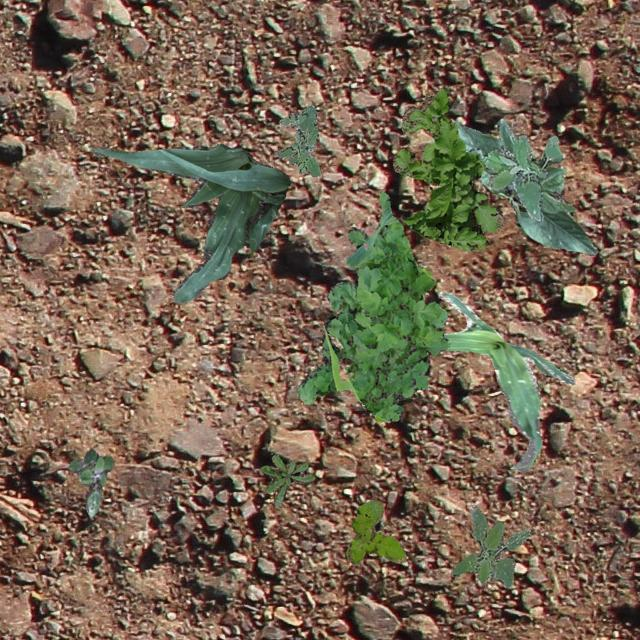crop: (87, 142, 289, 302), (438, 290, 574, 470), (453, 120, 597, 253)
weed: (296, 190, 448, 420), (392, 87, 504, 250), (468, 117, 562, 220), (450, 504, 530, 588), (346, 499, 404, 564), (274, 104, 320, 176), (68, 448, 114, 516), (260, 454, 314, 506)
